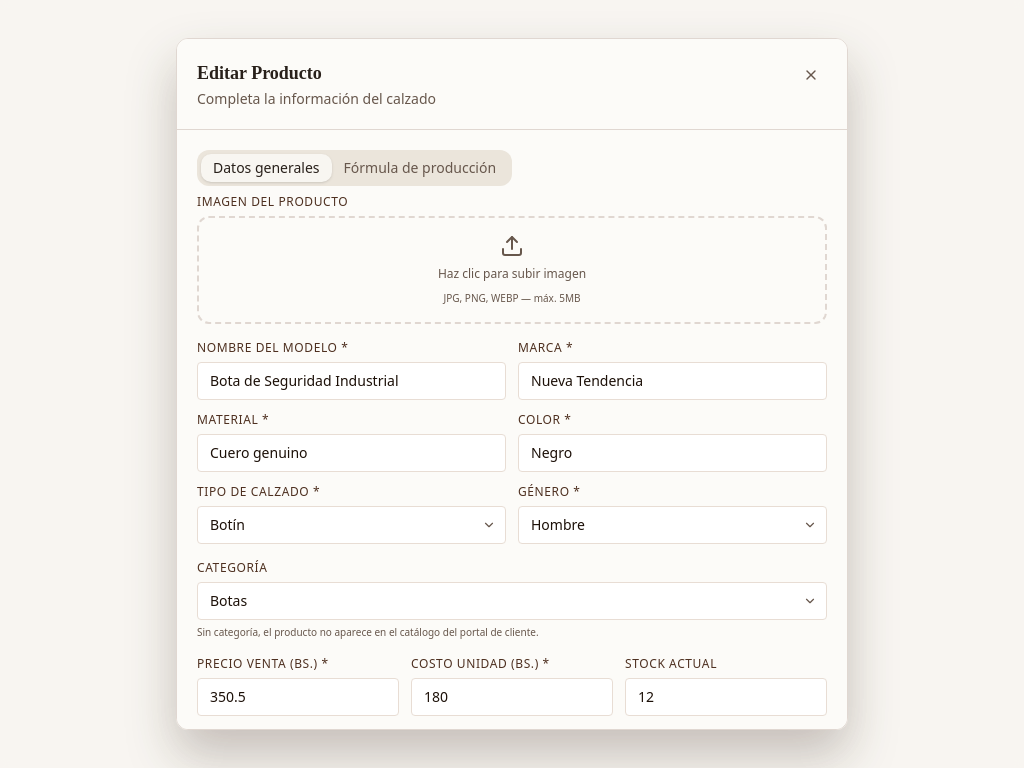
Test: ProductoModal — editar producto (coerción de tipos del backend) › precarga el campo de fórmula configurado (cuero_pies) y no confunde etapas
Click the tab "Fórmula de producción" at (420,168), box [332,154,508,182]
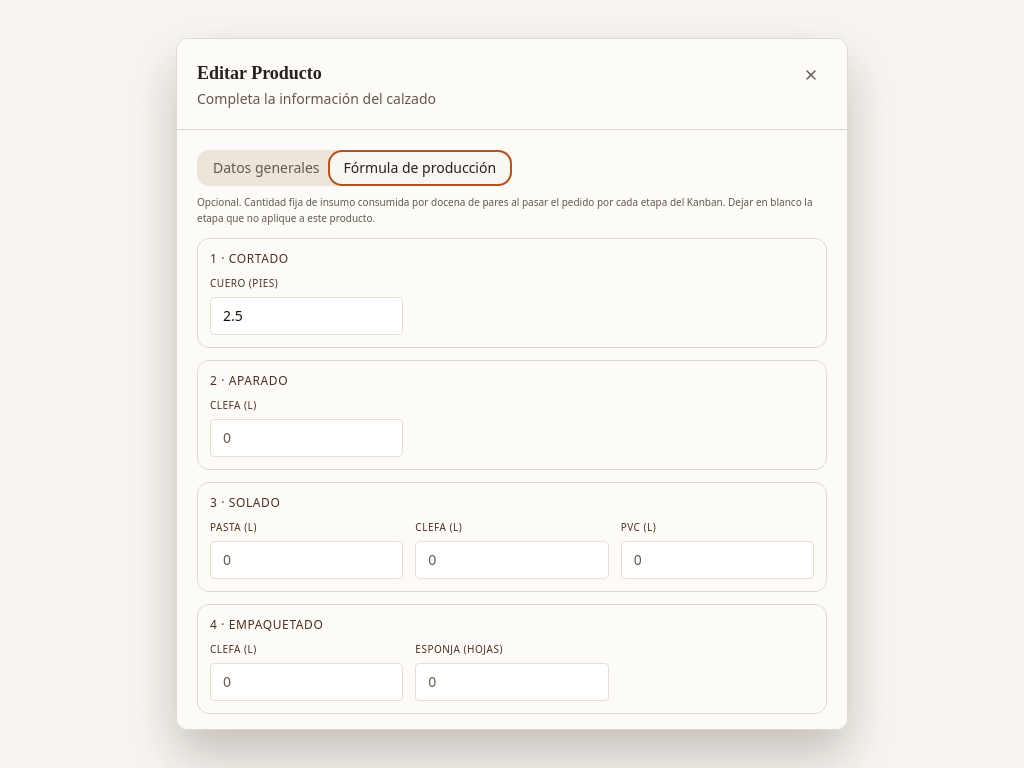
Check: the 1st number field holds "2.5", box [210,297,403,335]
